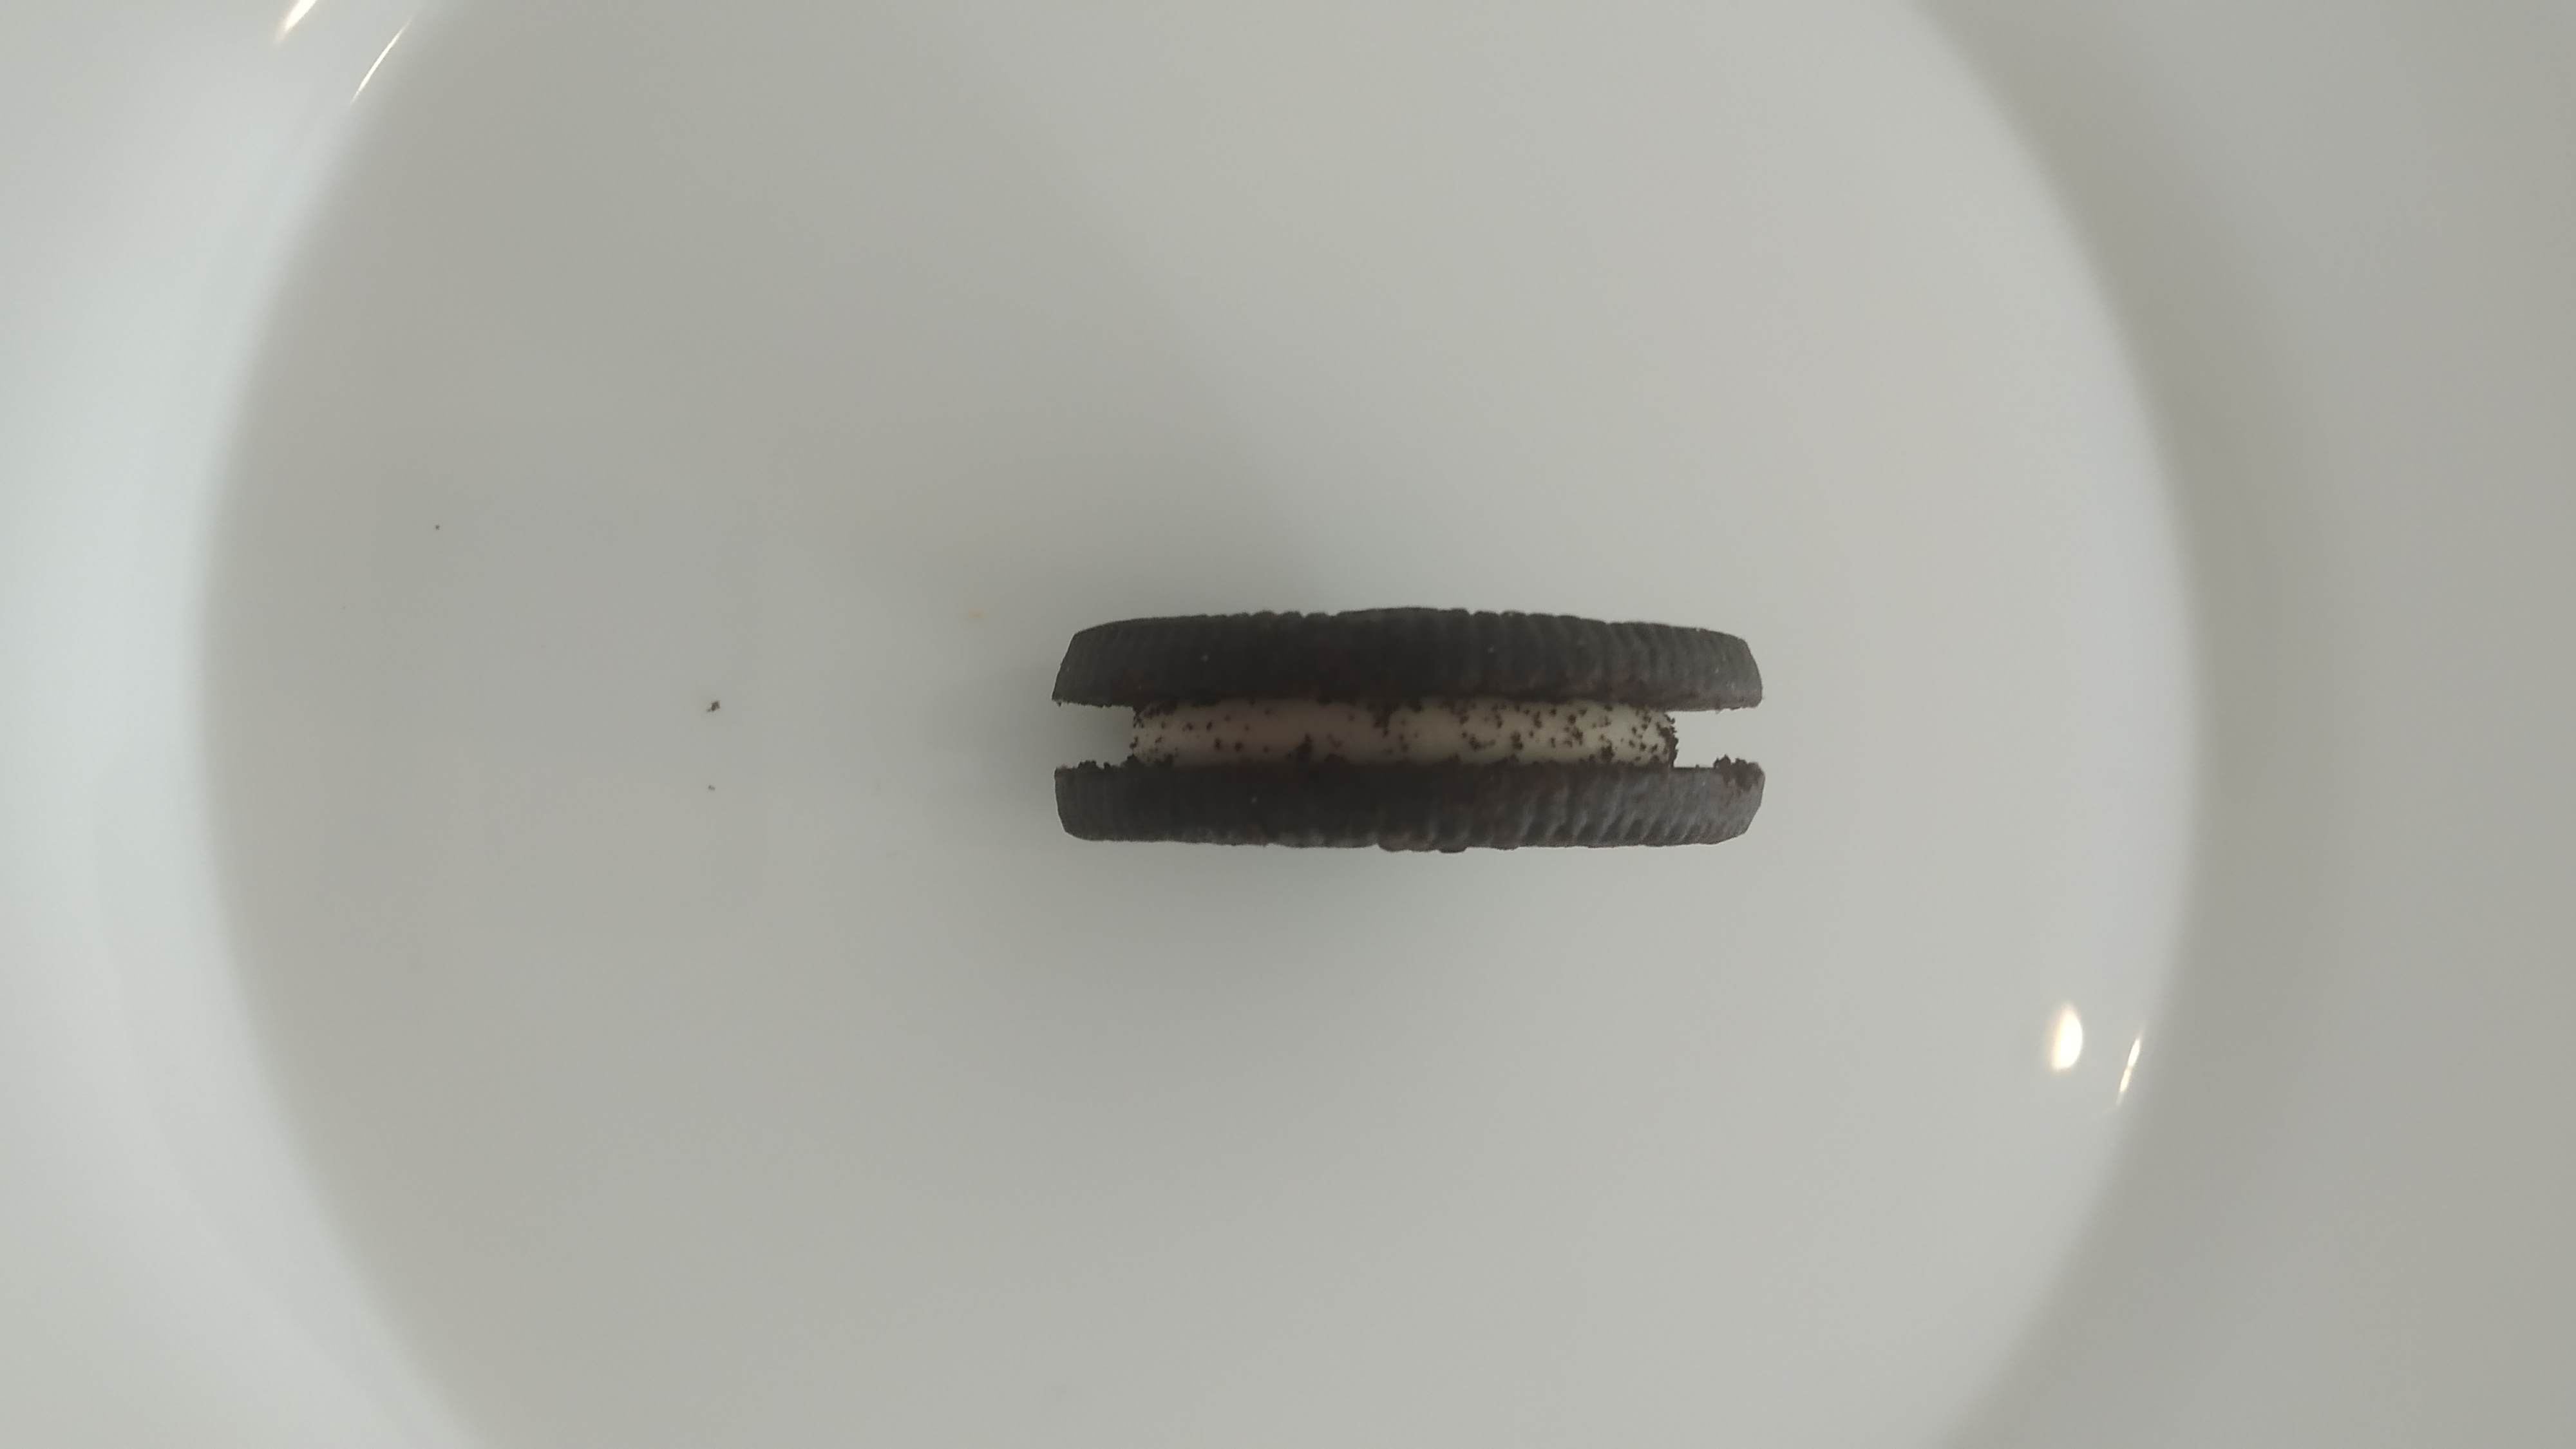oreo: (1054, 607, 1769, 853)
